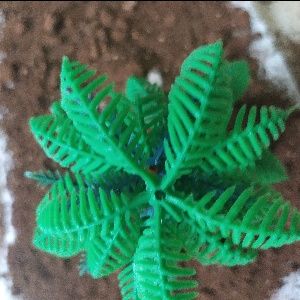plant: (19, 35, 299, 300)
